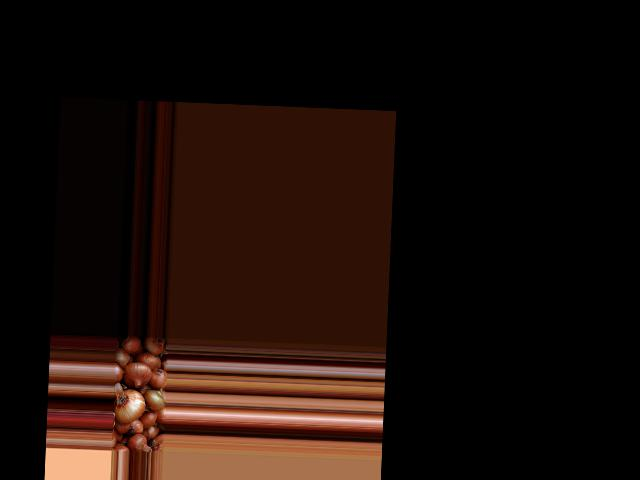onion: (143, 335, 163, 354)
